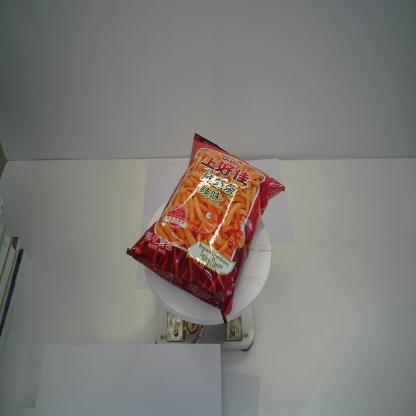Puffed Food: (126, 132, 286, 323)
